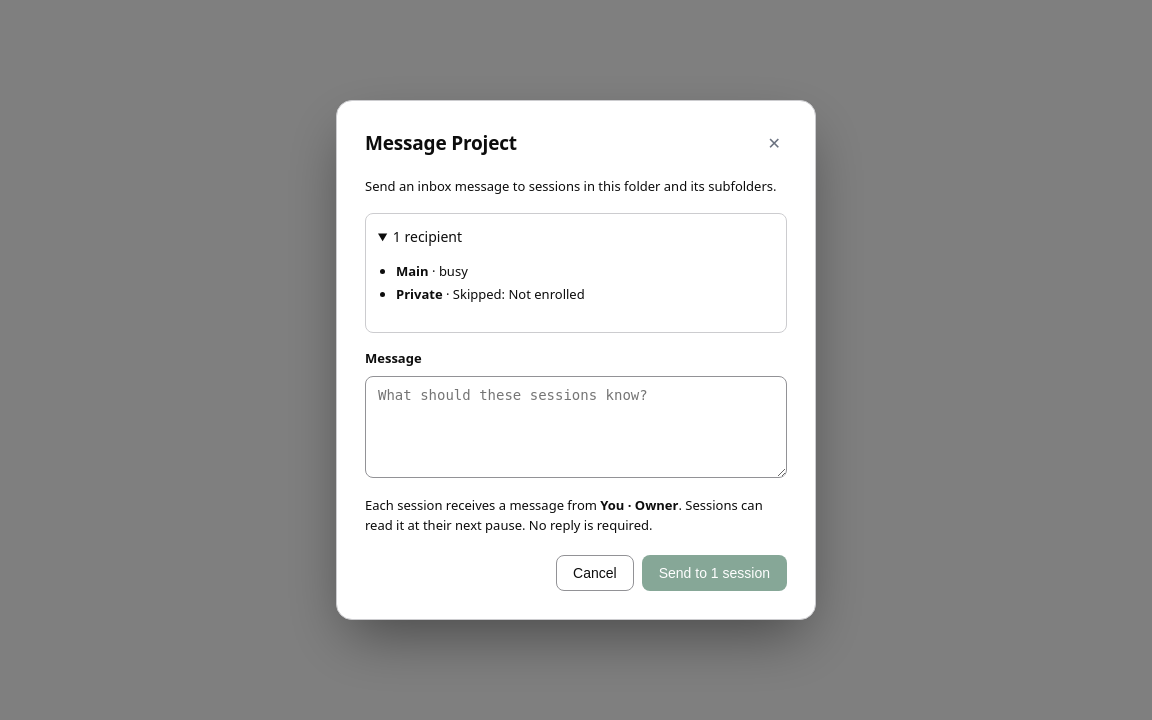
it: reviews eligibility and retains the idempotency key after an ambiguous send failure
Expected: the button "Send to 1 session" is disabled, [642,555,787,591]
Expected: the list item "Private · Skipped: Not enrolled" is shown, [396,285,585,303]
Type "Please review the roadmap" into the text box labelled "Message".
click(576, 427); type("Please review the roadmap")  # box [365,376,787,478]
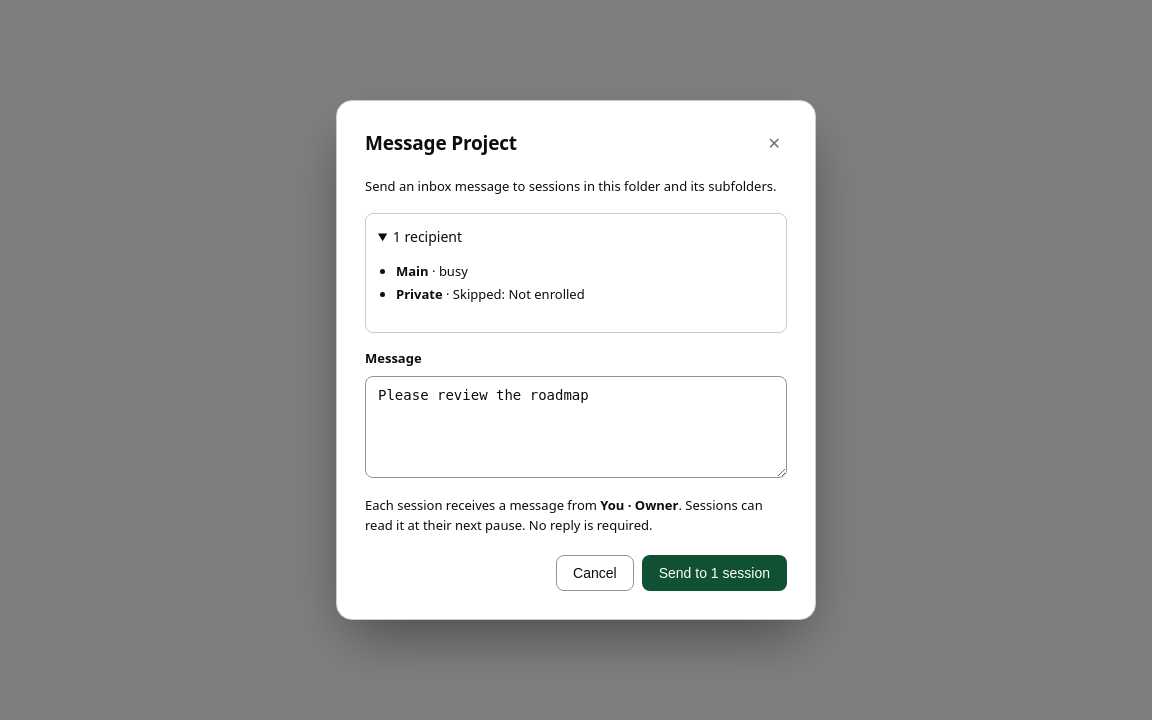
Click the button "Send to 1 session".
click(714, 573)  # box [642,555,787,591]
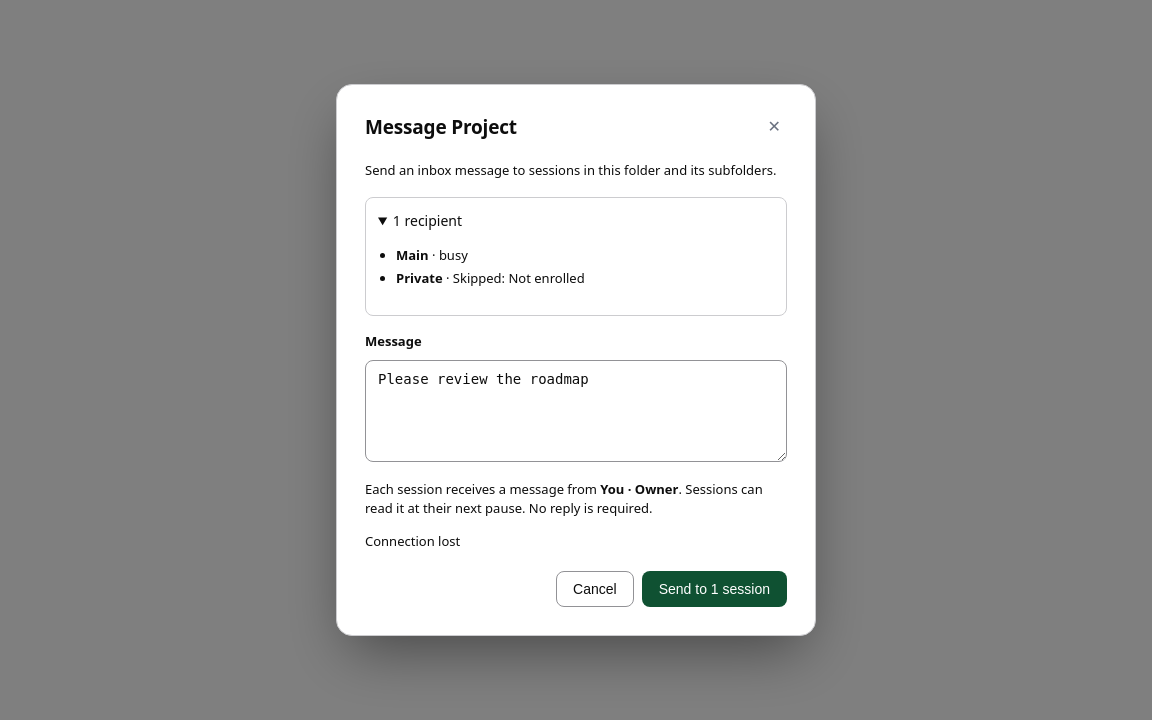
Expected: the message reads "Connection lost", [365,532,460,550]
Click the button "Send to 1 session".
click(714, 589)  # box [642,571,787,607]
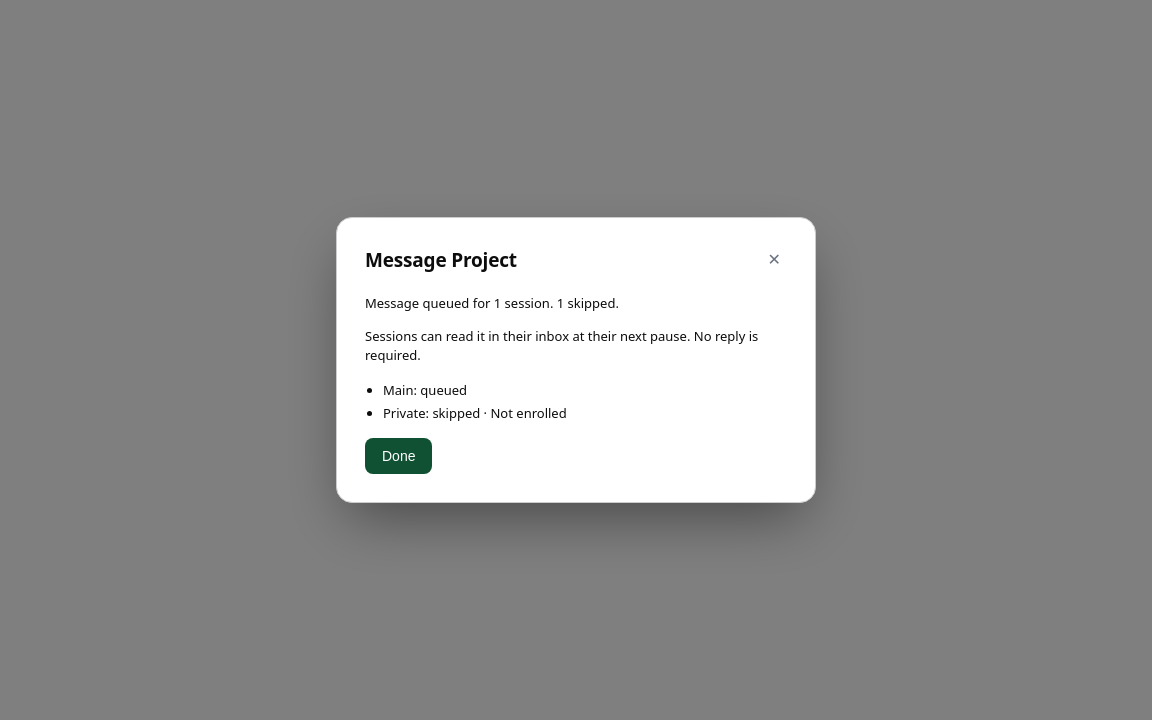
Expected: the message reads "Message queued for 1 session. 1 skipped.", [365,294,619,312]
